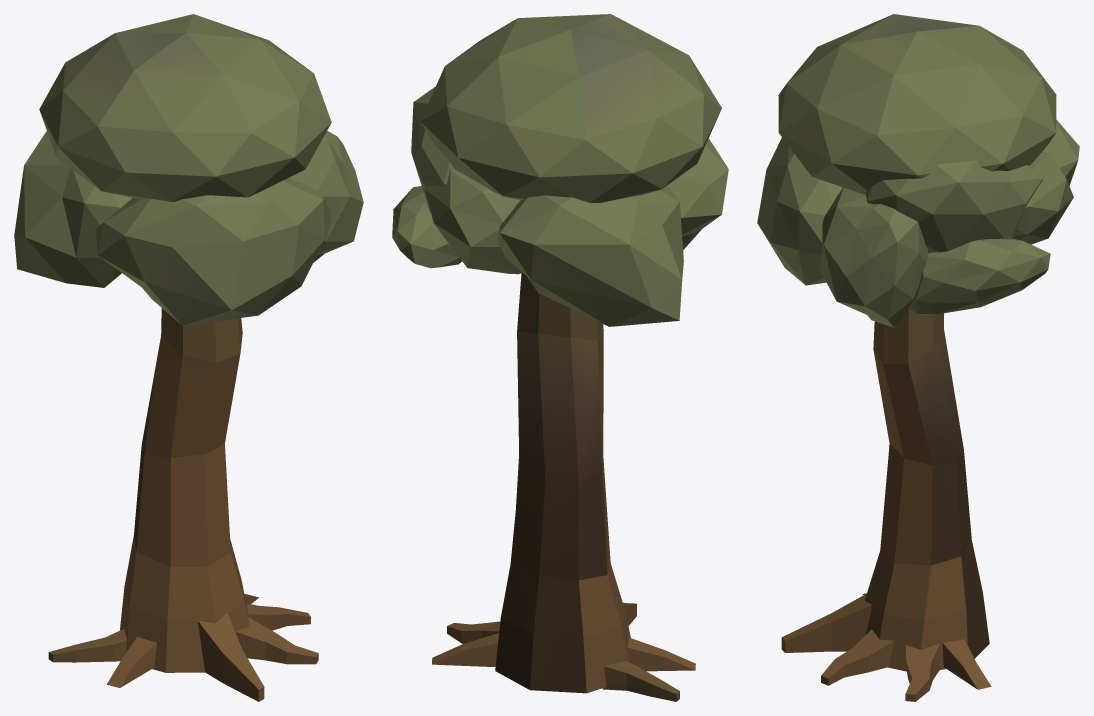
Rendered from Tree2_Summer.fbx.
3 views of the same model, side by side, from view 1: azimuth 30°, elevation 25°; view 2: azimuth 150°, elevation 25°; view 3: azimuth 270°, elevation 25° (orthographic). The views are drawn at different scales.
Visible parts, largest first — view 1: Tree1.002; view 2: Tree1.002; view 3: Tree1.002.
Boxes of the visible parts, x1,y1,x2,y2 form: Tree1.002: (14, 14, 363, 701); Tree1.002: (392, 14, 728, 701); Tree1.002: (757, 14, 1079, 701).
Size of the model in its own units: 303 by 629 by 299.
